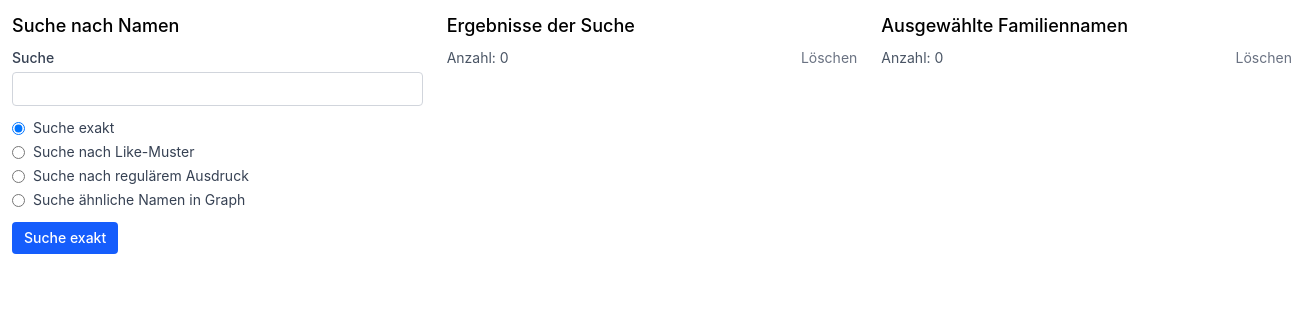
Test: SearchPanel › shows the server error message when a regexp search fails (e.g. malformed pattern)
Click the radio button labelled "Suche nach regulärem Ausdruck": (18, 176) [12, 170, 25, 182]
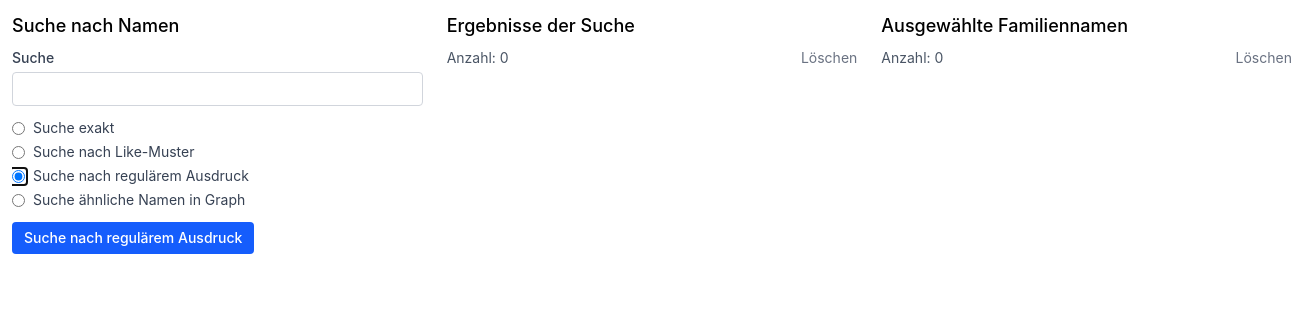
In the field labelled "Suche": (217, 89) [12, 72, 423, 106], type "(abc"
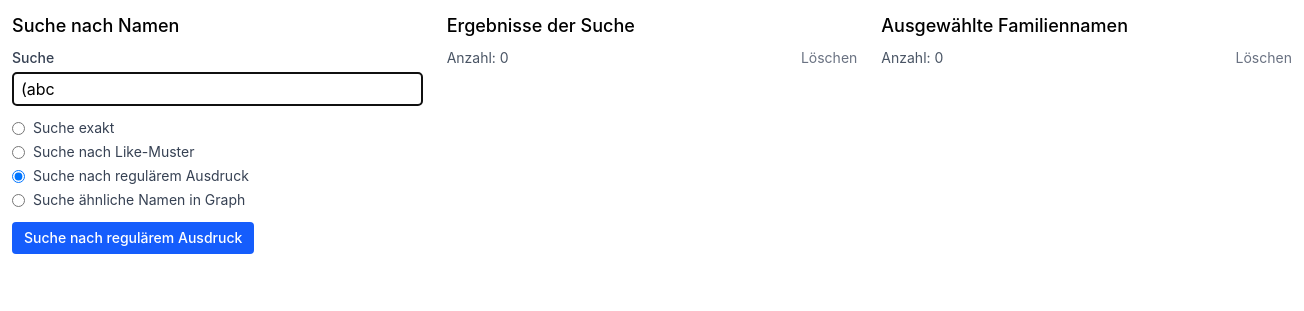
Click the button "Suche nach regulärem Ausdruck": (133, 238) [12, 222, 254, 254]
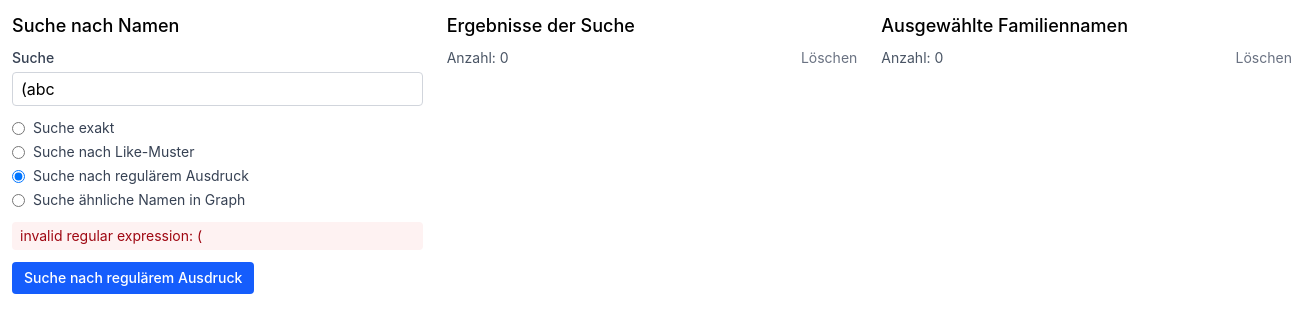
Expected: the message shows "invalid regular expression", [20, 227, 202, 244]
